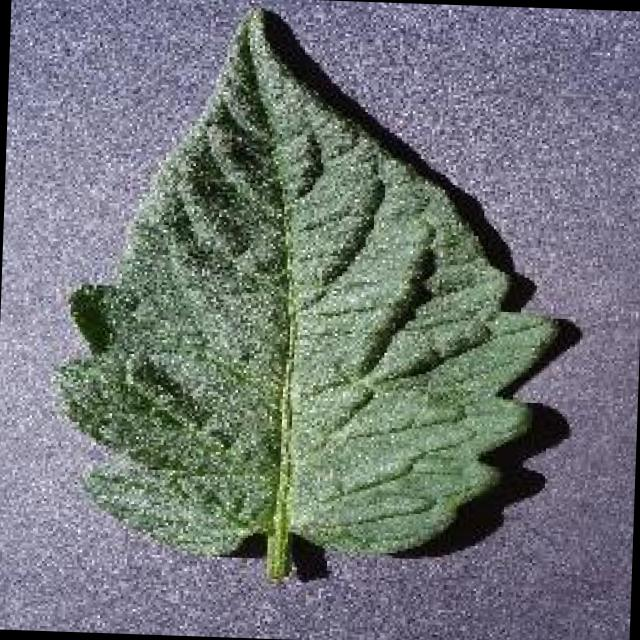Tomato_Healthy: (53, 0, 576, 573)
